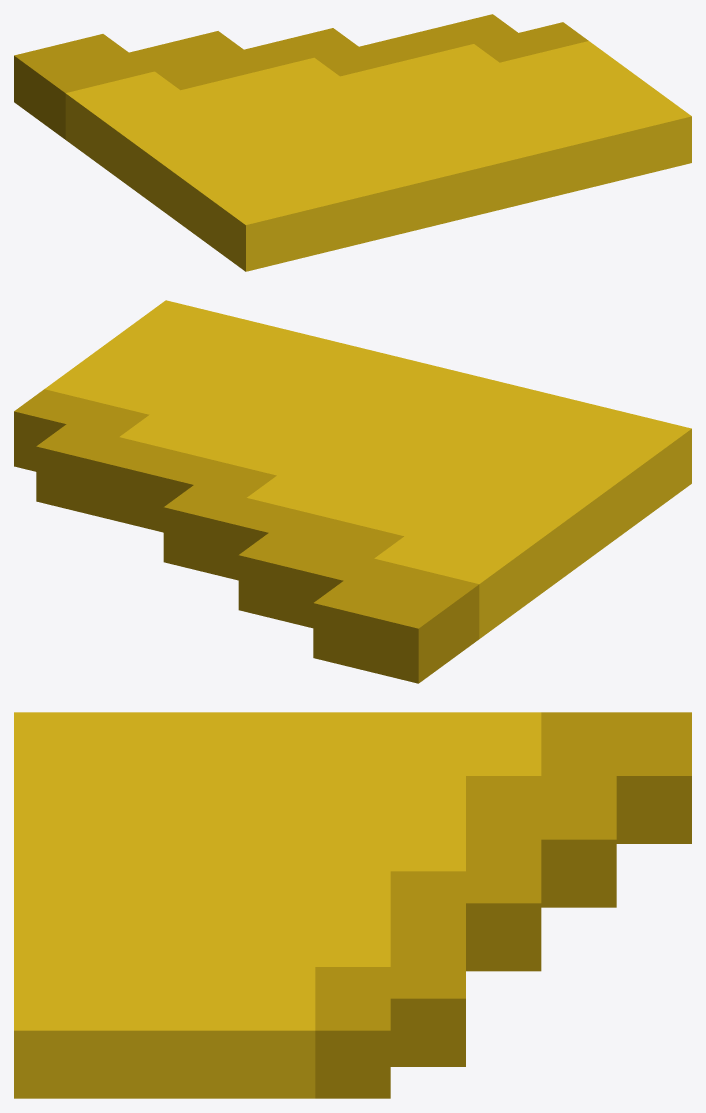
The model's file is path_yellow_diagonal_B_down.obj.
3 views of the same model, one above another, from view 1: azimuth 30°, elevation 25°; view 2: azimuth 150°, elevation 25°; view 3: azimuth 270°, elevation 25° (orthographic). The views are drawn at different scales.
Bounding box in the file's own units: 1 × 0.1 × 0.9.
Materials: 1 (1 with a texture image).
